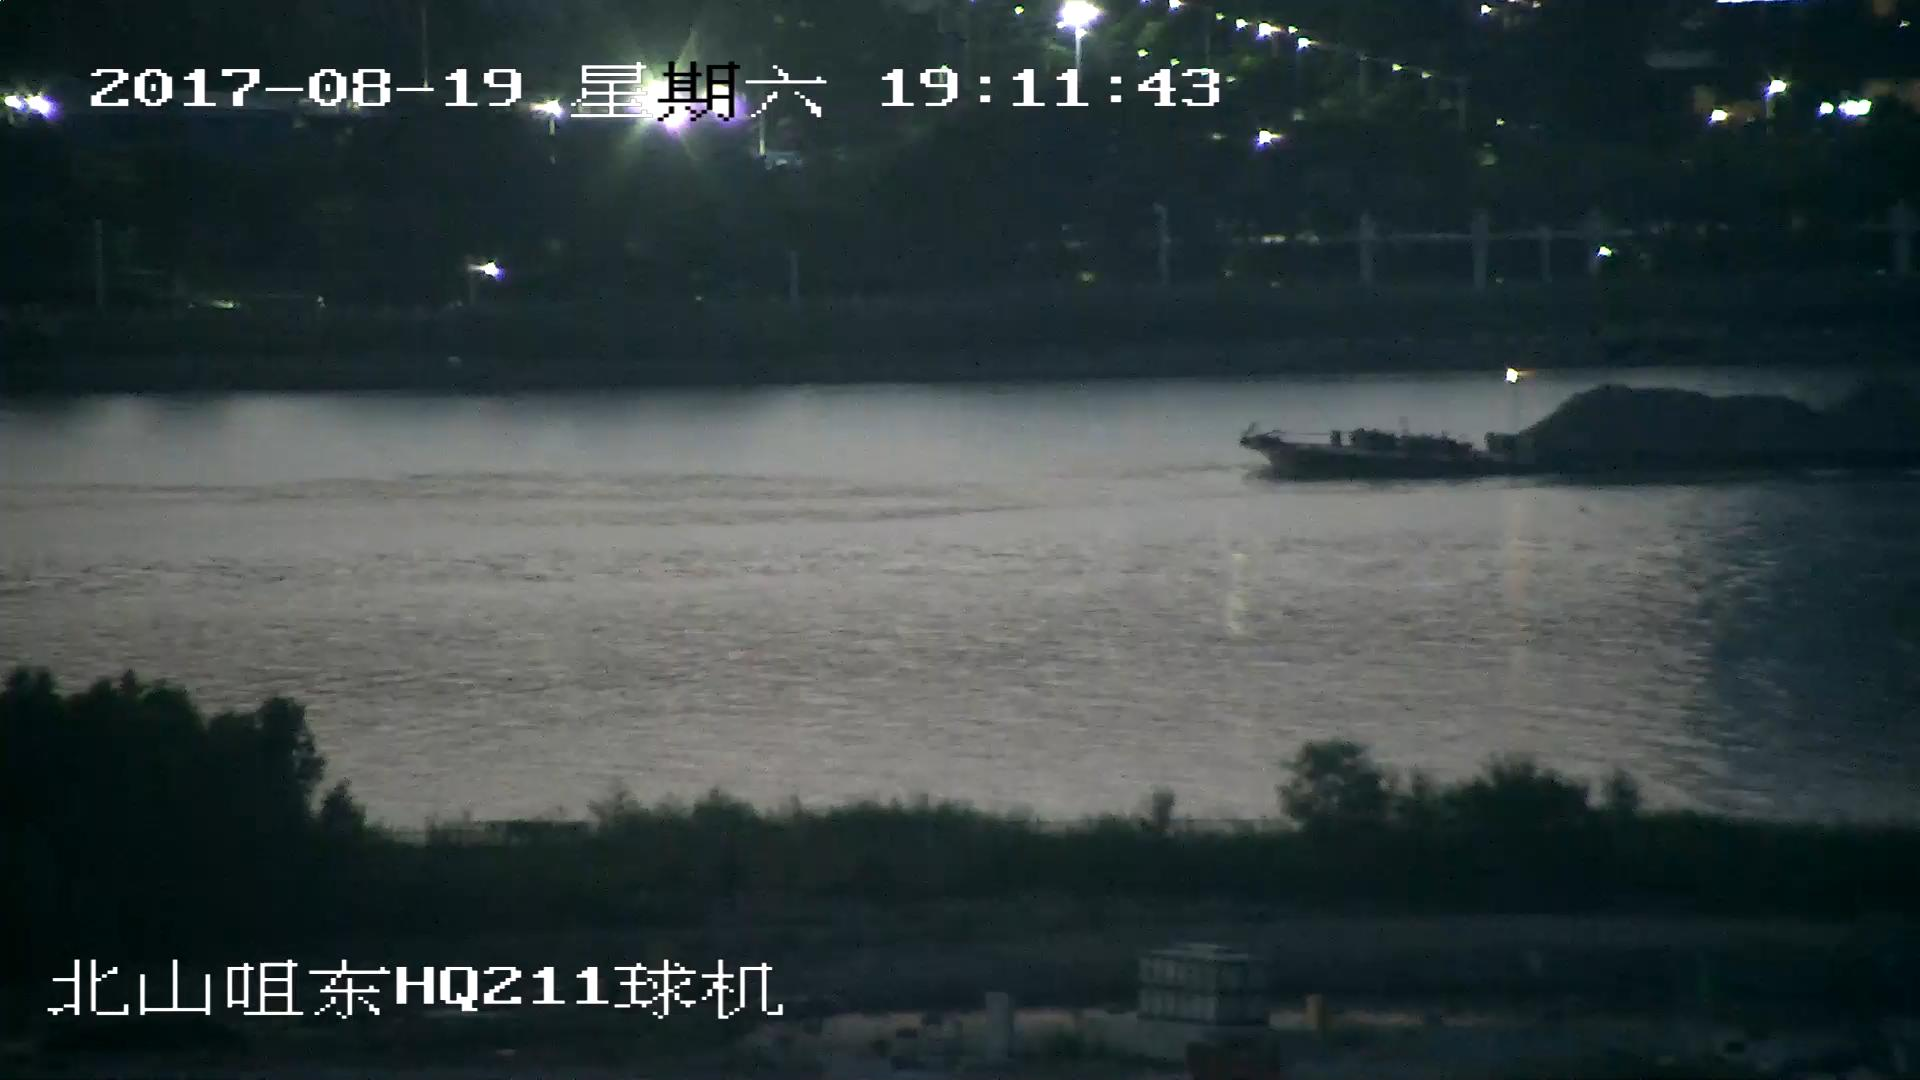ore carrier: (1234, 382, 1920, 491)
